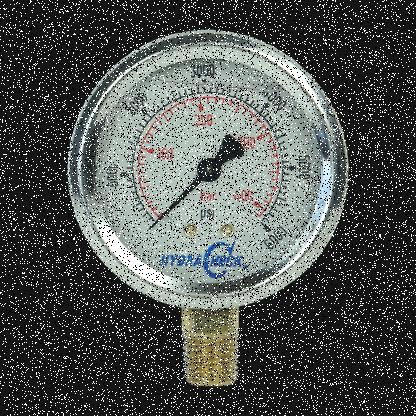needle: (149, 176, 203, 231)
